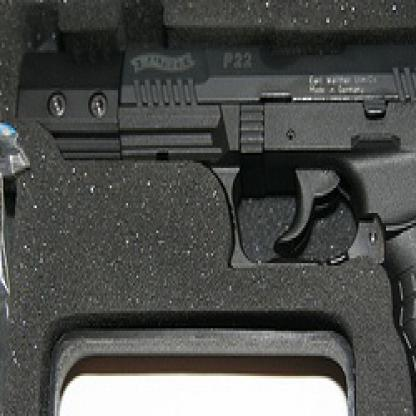gun: (15, 12, 414, 414)
